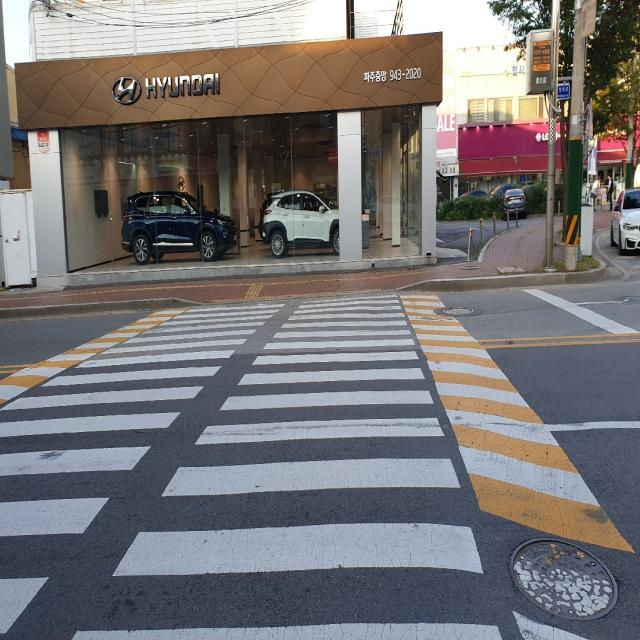횡단보도: (0, 292, 504, 640)
